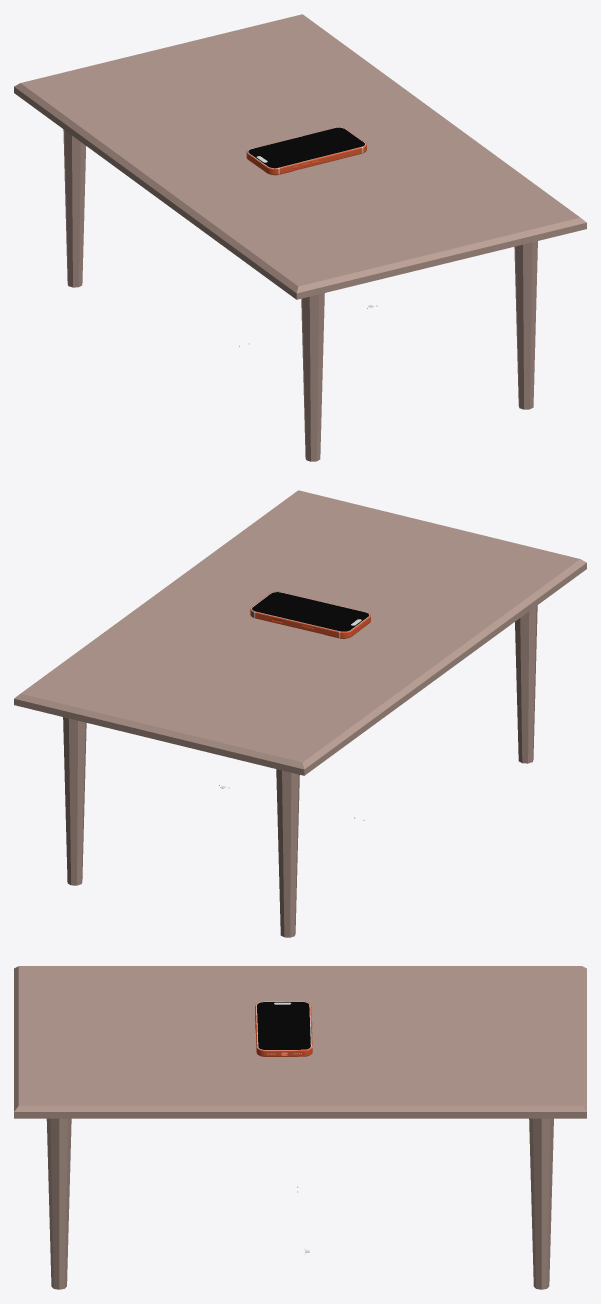
Rendered from ispg_phone.glb.
3 views of the same model, one above another, from view 1: azimuth 30°, elevation 25°; view 2: azimuth 150°, elevation 25°; view 3: azimuth 270°, elevation 25° (orthographic).
Visible parts, largest first — view 1: Table_Large_Rectangular_01_Circle.004, mobile; view 2: Table_Large_Rectangular_01_Circle.004, mobile; view 3: Table_Large_Rectangular_01_Circle.004, mobile.
Part boxes in pixels (x1,y1,x2,y2): Table_Large_Rectangular_01_Circle.004: (14, 14, 586, 461); mobile: (239, 127, 377, 346); Table_Large_Rectangular_01_Circle.004: (14, 490, 586, 937); mobile: (219, 591, 370, 820); Table_Large_Rectangular_01_Circle.004: (14, 966, 586, 1289); mobile: (255, 1001, 312, 1253).
Bounding box in the file's own units: 11.74 × 7.89 × 19.8.
